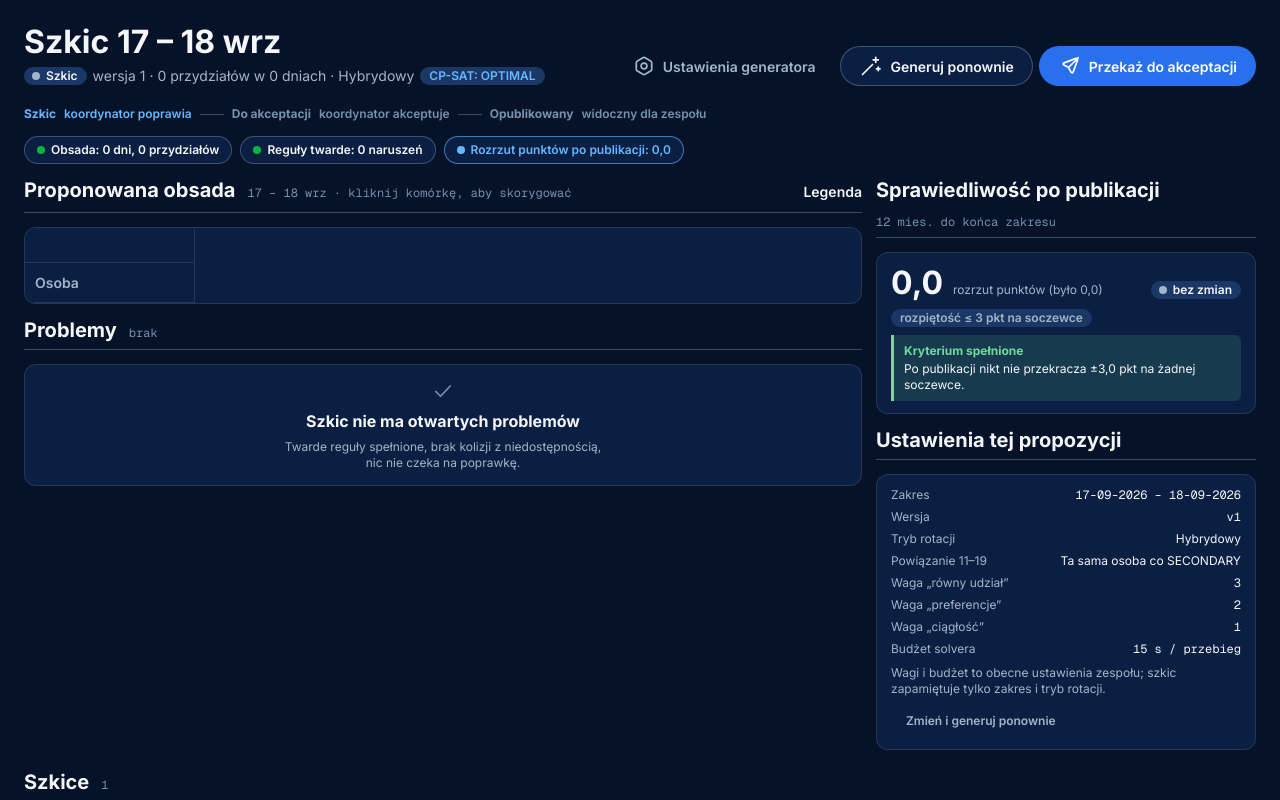
Scenario: GeneratorPanel transitions › does not serve a stale status after handing a draft over
Click the button "Przekaż do akceptacji".
click(1147, 66)  # box [1039,46,1256,86]
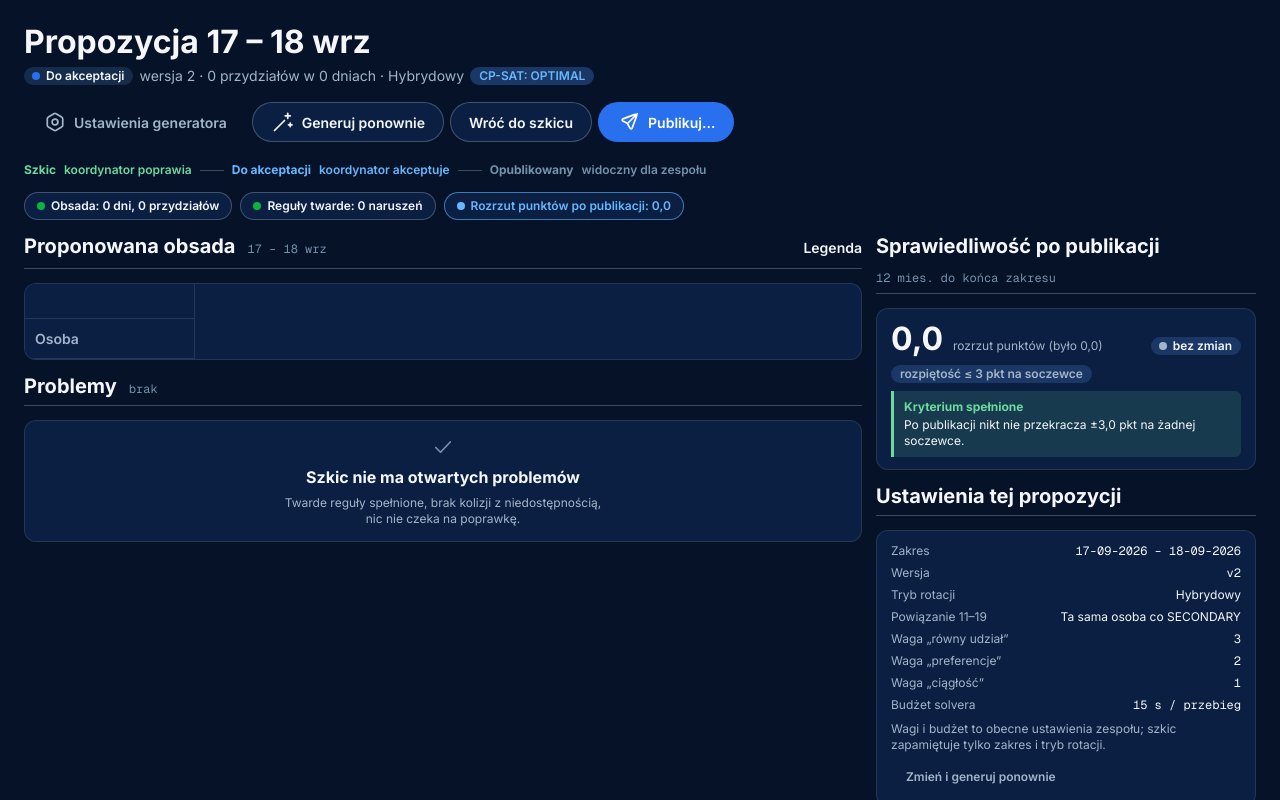
Result: the button "Publikuj…" is shown at [598,102,734,142]
